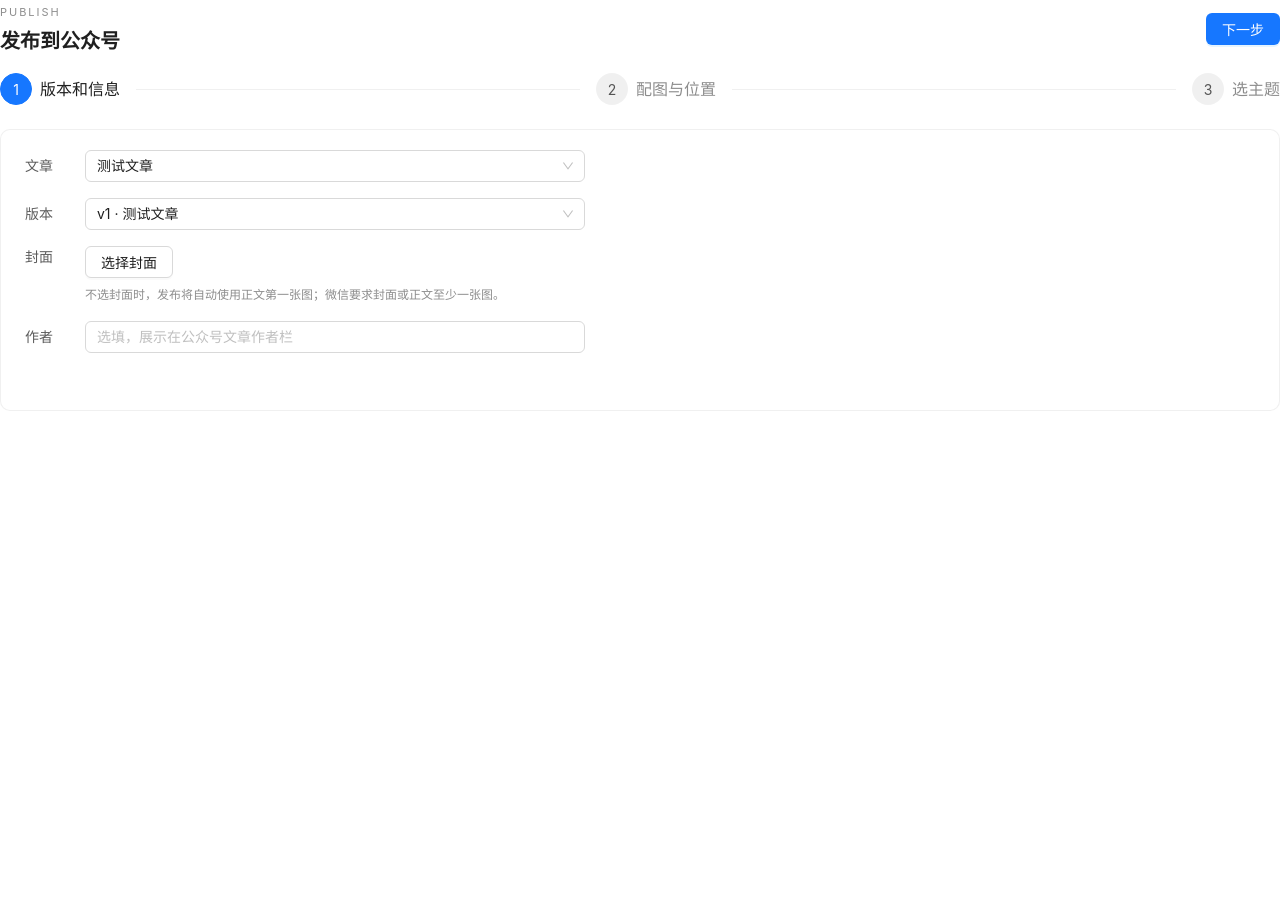
Test case: PublishPage 三步向导 › 插图弹窗：分组展示、多选计数、确定后按勾选顺序内联插入锚点后
This screenshot has width=1280, height=900.
Expected: the heading "发布到公众号" is shown, [0, 26, 120, 57]
Click the button "下一步": (1243, 29) [1206, 13, 1279, 45]
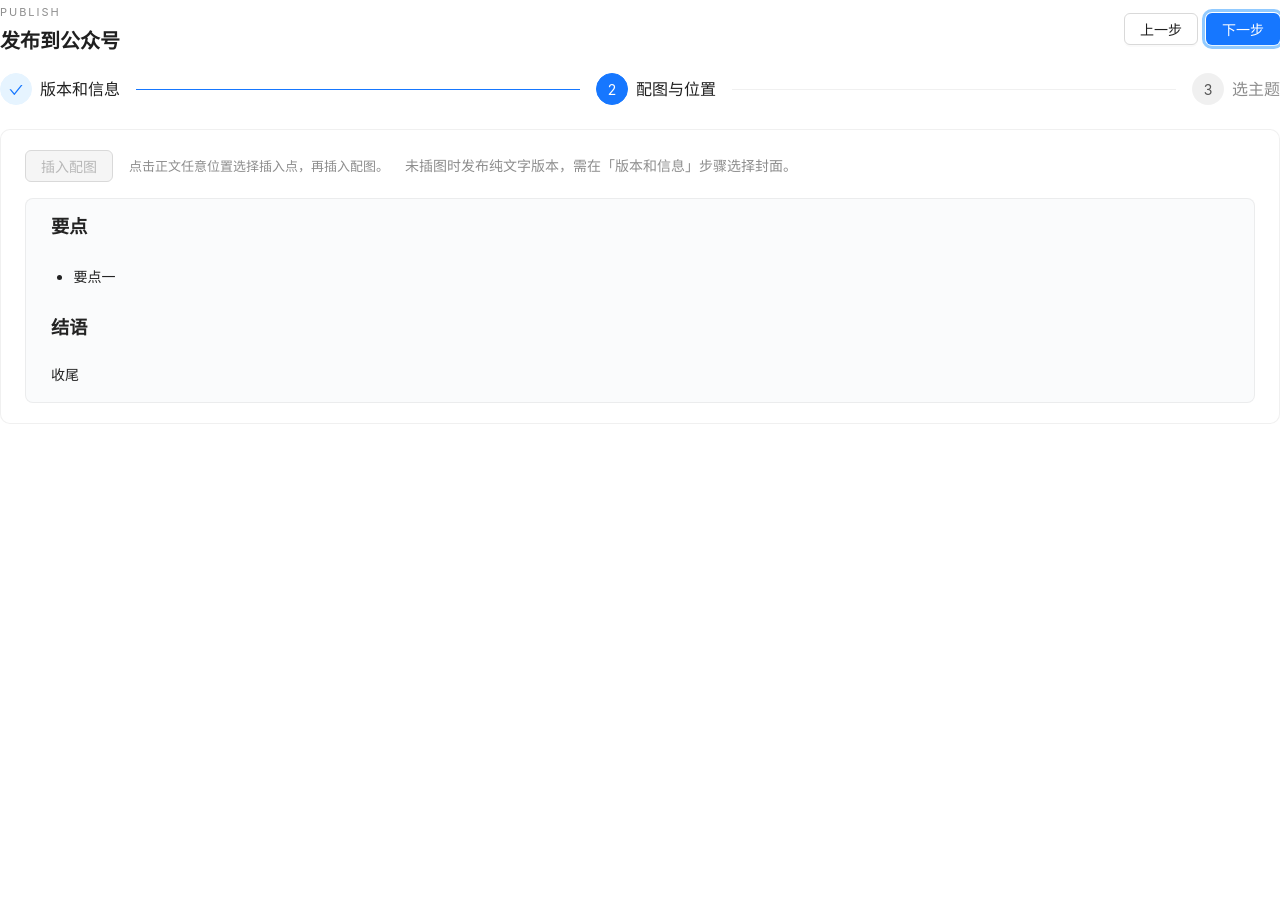
Expected: the element named "正文画布" is shown, [25, 198, 1255, 403]
Click the element showing "要点一": (94, 277) [73, 268, 115, 285]
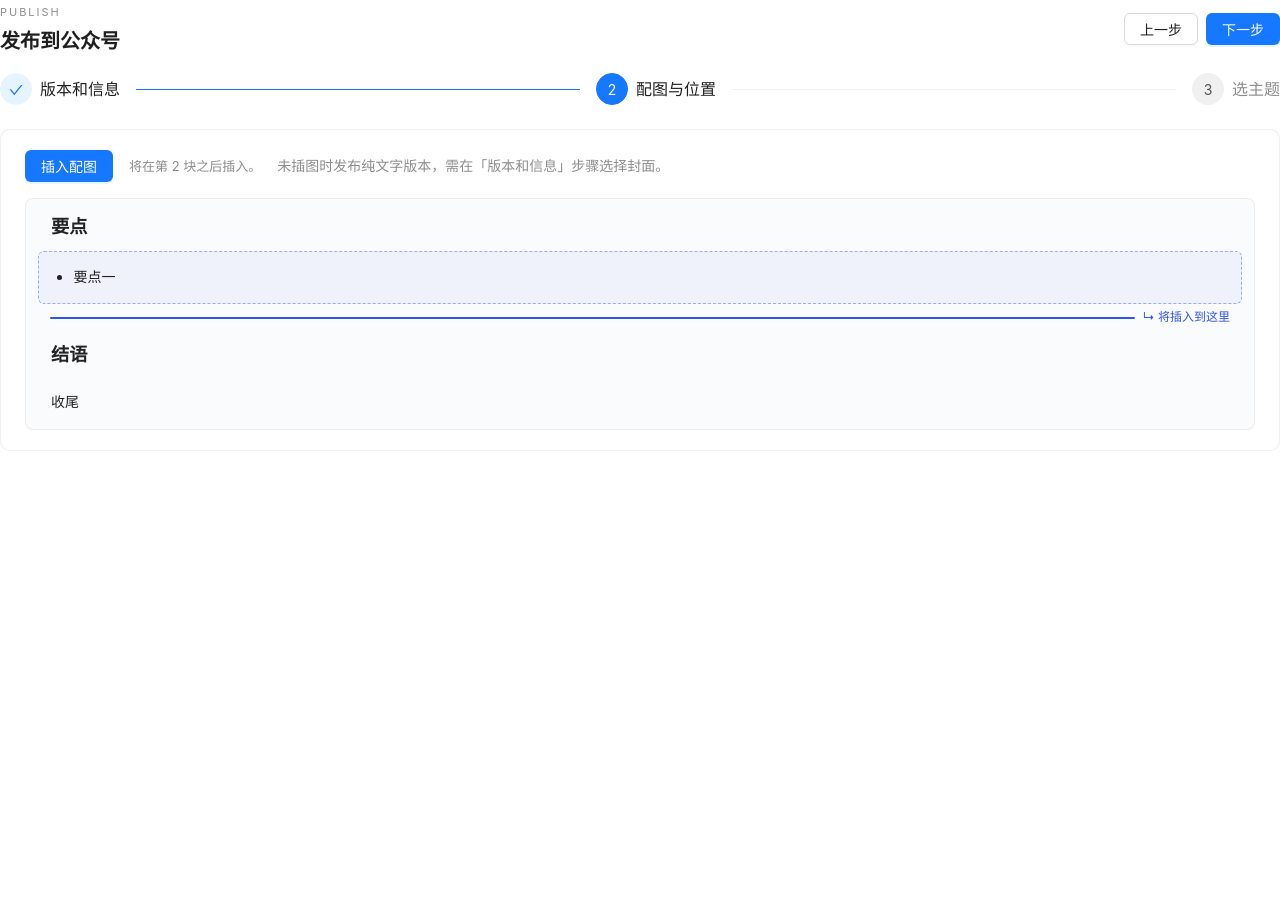
Click the button "插入配图": (69, 166) [25, 150, 113, 182]
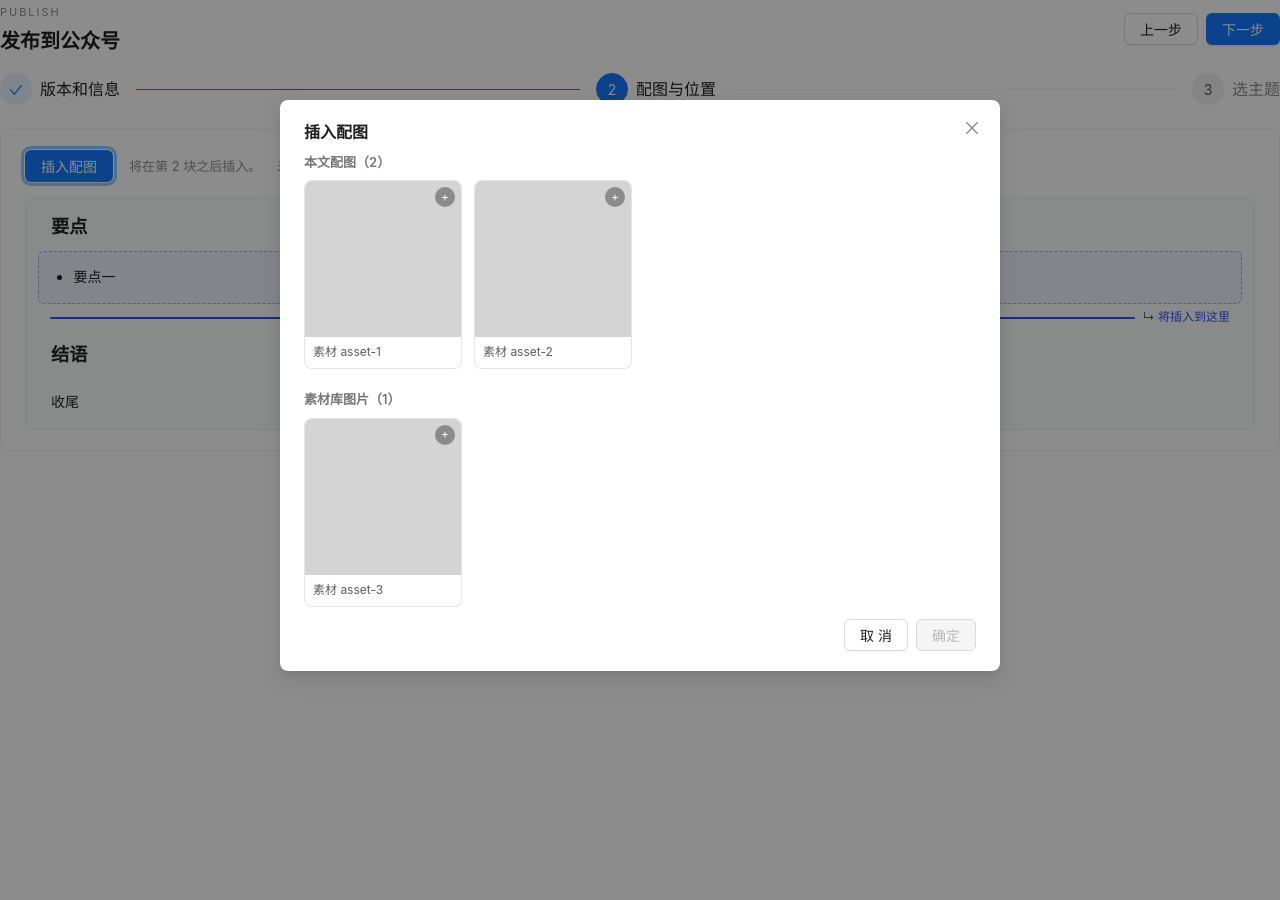
Expected: the heading "本文配图（2）" is shown, [304, 154, 390, 170]
Expected: the heading "素材库图片（1）" is shown, [304, 391, 400, 407]
Expected: the button "确定" is disabled, [916, 618, 976, 650]
// 多选：素材库图片 + 本文配图（勾选顺序即插入顺序）
Click the button "素材 asset-3 +": (383, 512) [304, 418, 462, 606]
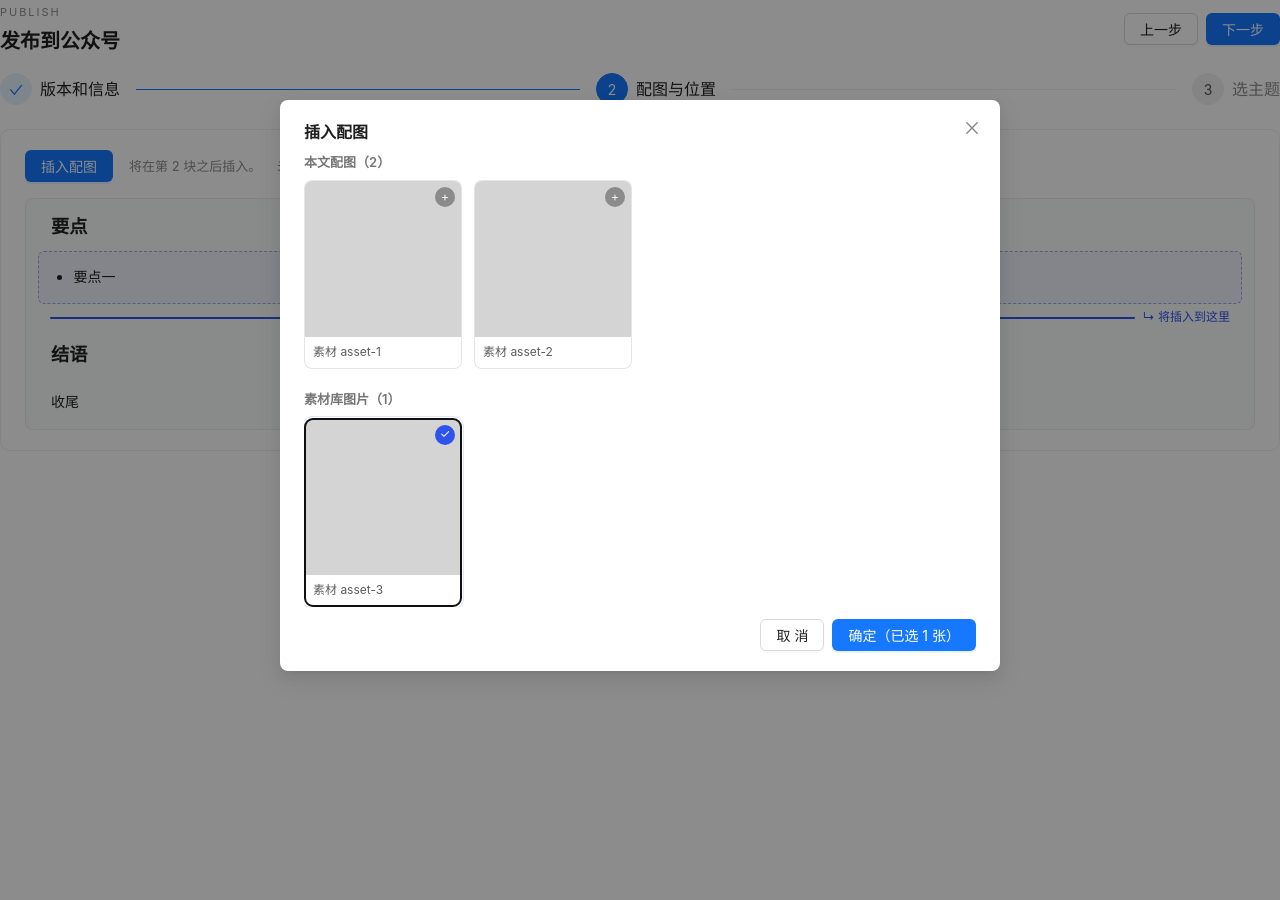
Click the button "素材 asset-1 +": (383, 275) [304, 180, 462, 369]
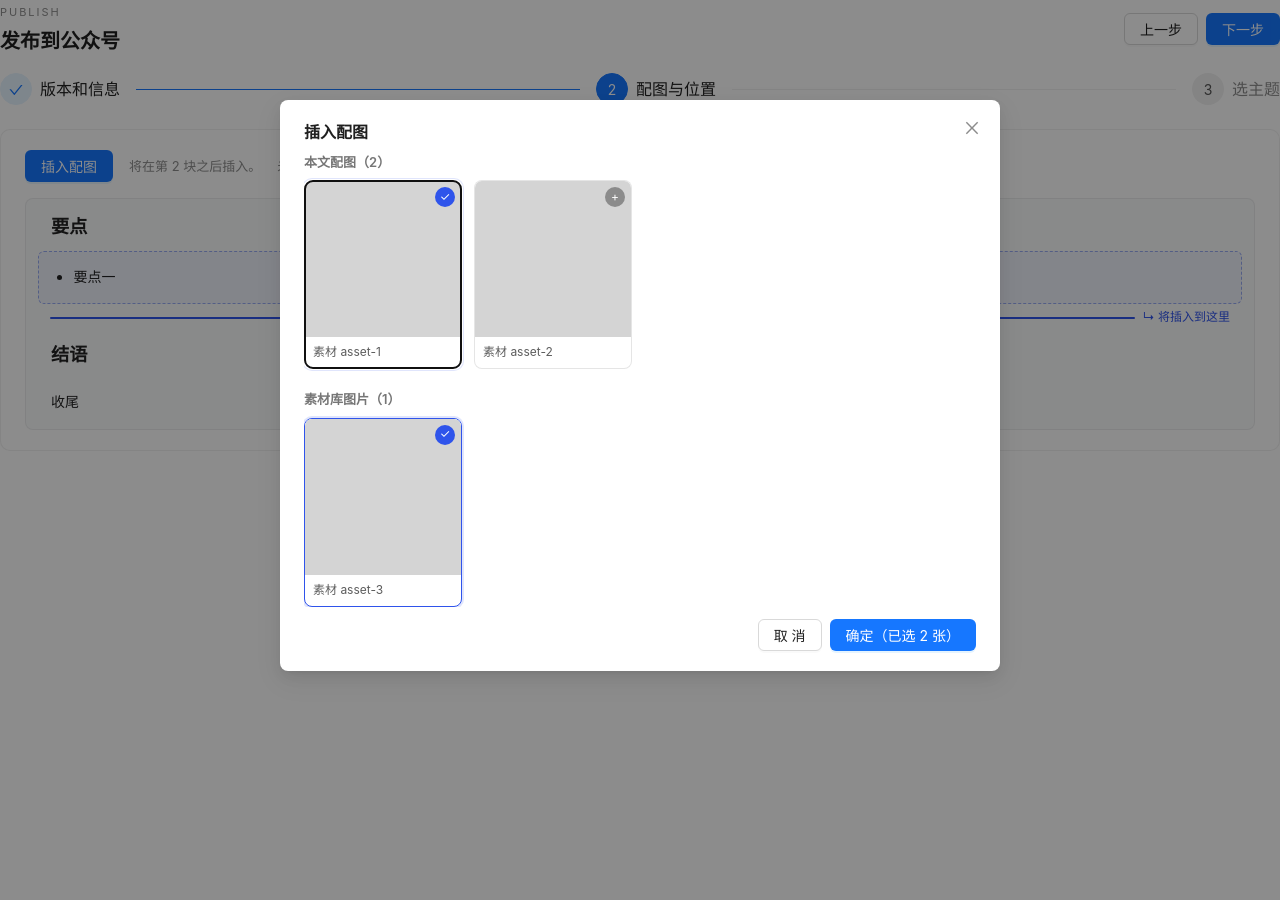
Click the button "确定（已选 2 张）": (903, 634) [830, 618, 976, 650]
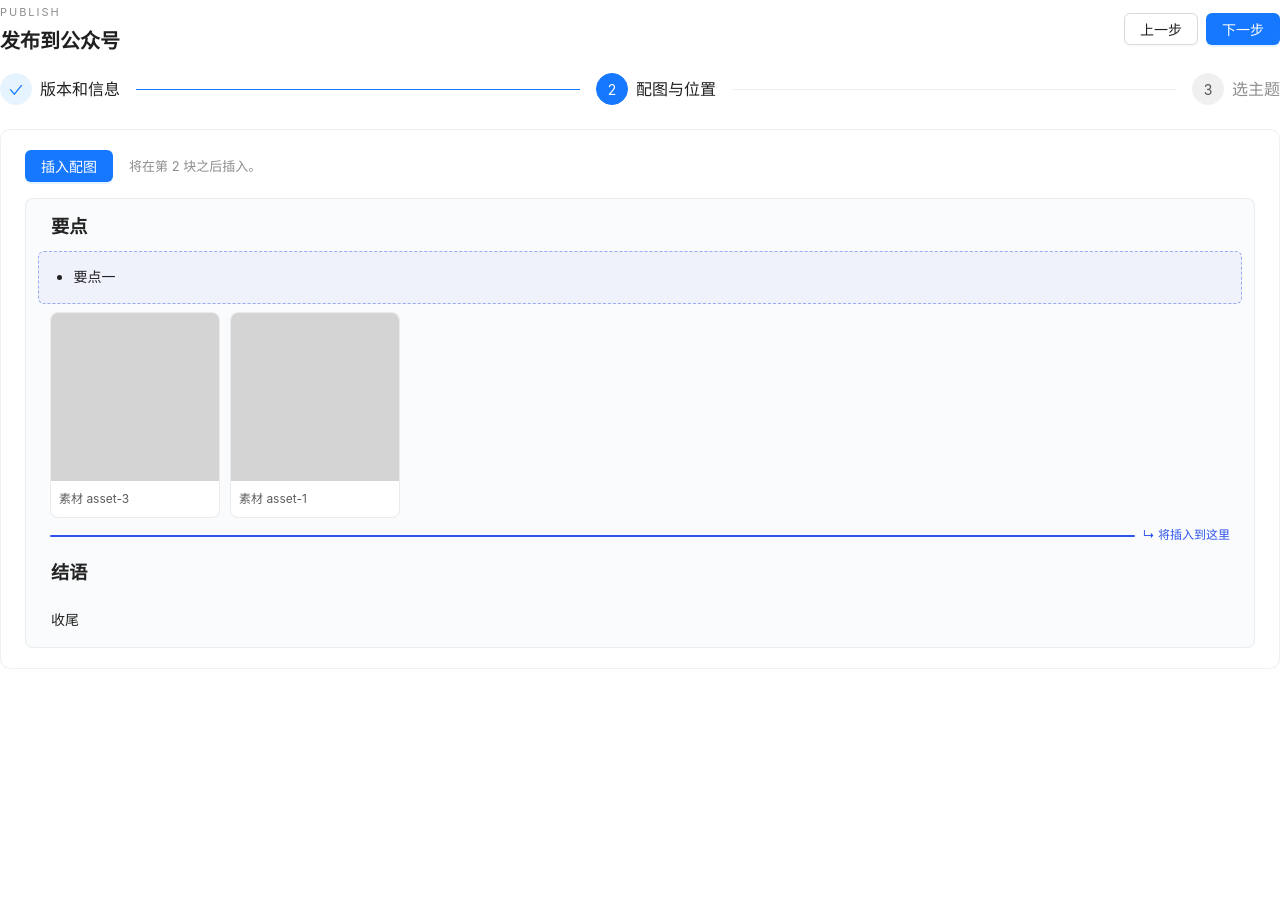
Expected: the text "将在第 2 块之后插入。" is shown, [129, 156, 261, 177]
Expected: the elements "素材 asset-" read "素材 asset-3", "素材 asset-1", in this order, [59, 491, 129, 506]; [239, 491, 307, 506]
